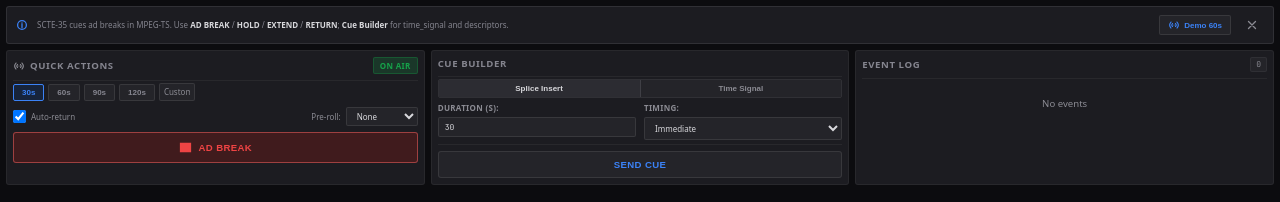
Test: SCTE35Panel › re-shows tip when help button clicked
The width and height of the screenshot is (1280, 202).
Click the button with class "tip-banner__close". click: (1252,25)
box: [1239,12,1265,38]
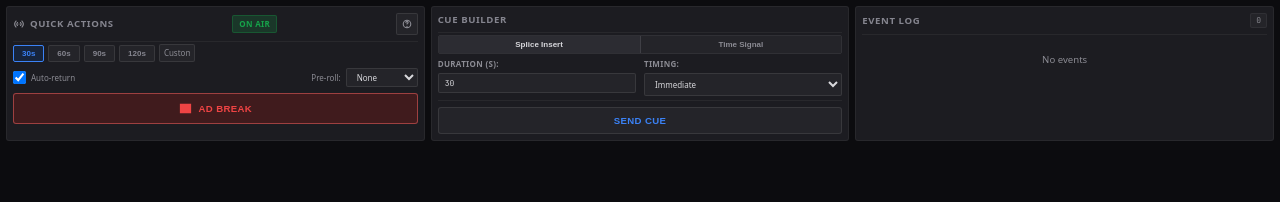
Click the button with class "guide-help-btn". click: (407,24)
box: [396,13,418,35]
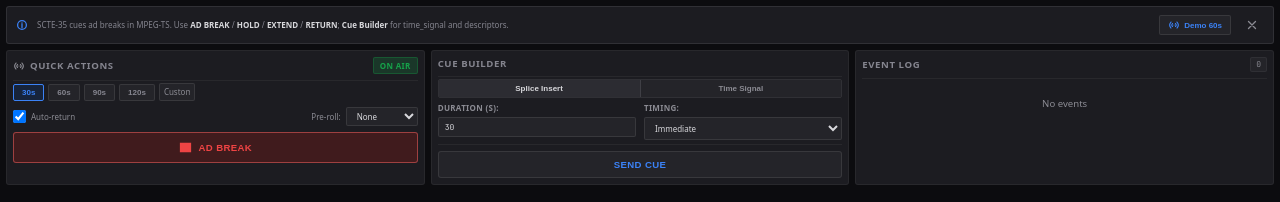
Expected: the message with class "tip-banner" is shown, [6,6,1274,44]
